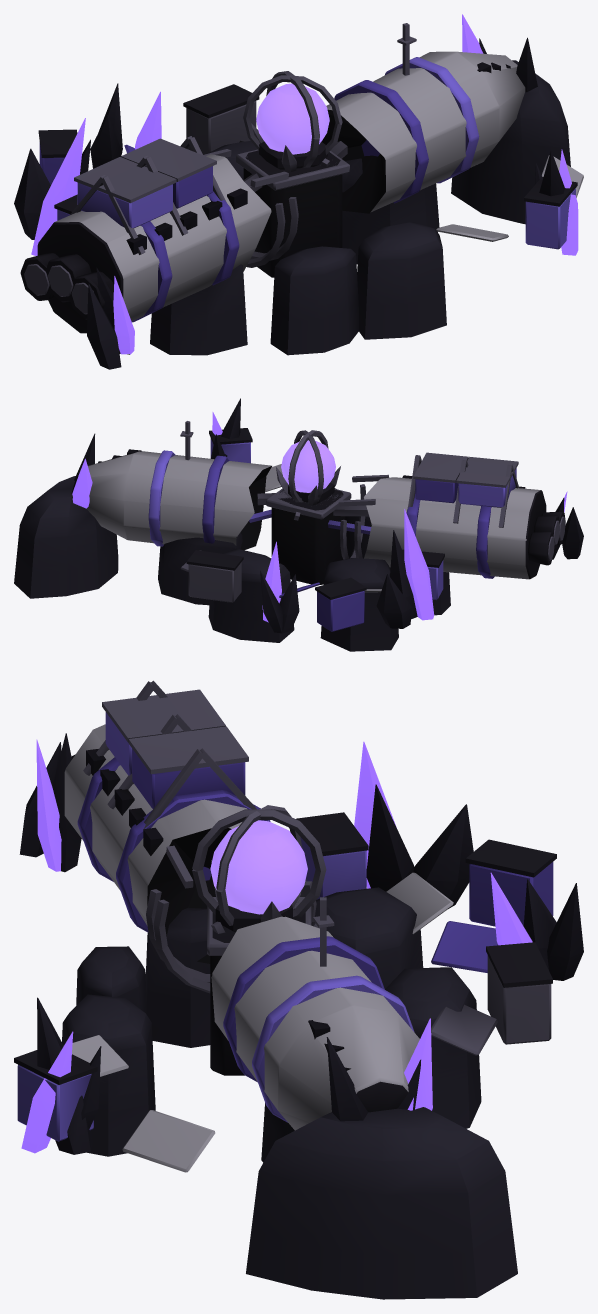
File: crash-site-umbra.glb
The picture shows the model from 3 angles, top to bottom: view 1: azimuth 30°, elevation 25°; view 2: azimuth 150°, elevation 25°; view 3: azimuth 270°, elevation 25°; orthographic projection. The views are drawn at different scales.
Parts seen in each view (by area): view 1: site_crash_site_umbra_body, site_crash_site_umbra_core, site_crash_site_umbra_ruin; view 2: site_crash_site_umbra_body, site_crash_site_umbra_core, site_crash_site_umbra_ruin; view 3: site_crash_site_umbra_body, site_crash_site_umbra_core, site_crash_site_umbra_ruin.
Part boxes in pixels (<box>): site_crash_site_umbra_body: <box>14,14,583,369</box>; site_crash_site_umbra_core: <box>243,71,342,167</box>; site_crash_site_umbra_ruin: <box>251,123,329,171</box>; site_crash_site_umbra_body: <box>14,398,583,651</box>; site_crash_site_umbra_core: <box>281,430,335,502</box>; site_crash_site_umbra_ruin: <box>276,466,340,520</box>; site_crash_site_umbra_body: <box>14,680,583,1299</box>; site_crash_site_umbra_core: <box>192,805,326,925</box>; site_crash_site_umbra_ruin: <box>211,860,319,933</box>.
Bounding box in the file's own units: 5.73 × 1.95 × 3.5.
